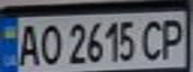1: (103, 18, 121, 63)
2: (63, 19, 87, 65)
5: (118, 17, 139, 63)
6: (84, 18, 106, 64)
A: (12, 20, 42, 68)
C: (139, 16, 169, 62)
O: (36, 20, 63, 68)
P: (157, 15, 190, 61)
